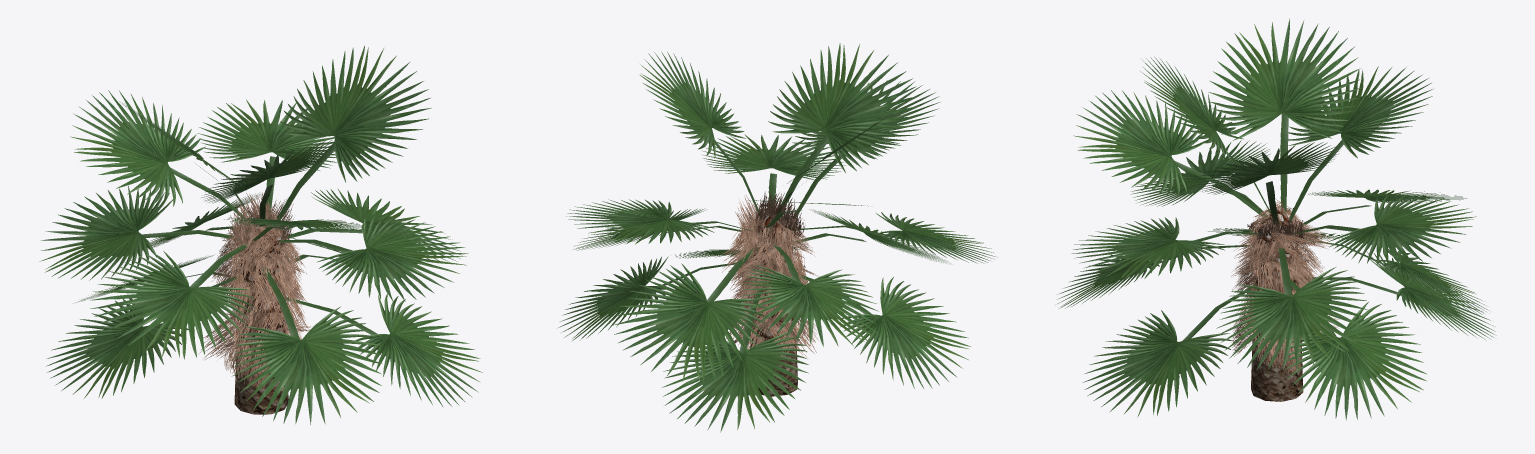
Rendered from chi_LOD1.fbx.
The picture shows the model from 3 angles, left to right: view 1: azimuth 30°, elevation 25°; view 2: azimuth 150°, elevation 25°; view 3: azimuth 270°, elevation 25°; orthographic projection. The views are drawn at different scales.
Parts seen in each view (by area): view 1: Mesh Object; view 2: Mesh Object; view 3: Mesh Object.
Part boxes in pixels (box(x1,y1,x2,y2)): Mesh Object: box(39, 45, 482, 424); Mesh Object: box(558, 43, 995, 432); Mesh Object: box(1057, 18, 1496, 420).
Bounding box in the file's own units: 10.09 × 7.31 × 9.93.
